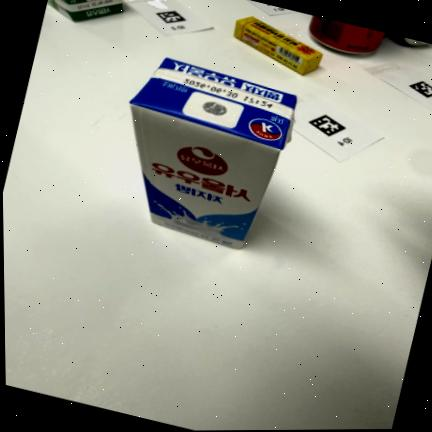milk_blue: (130, 58, 296, 249)
